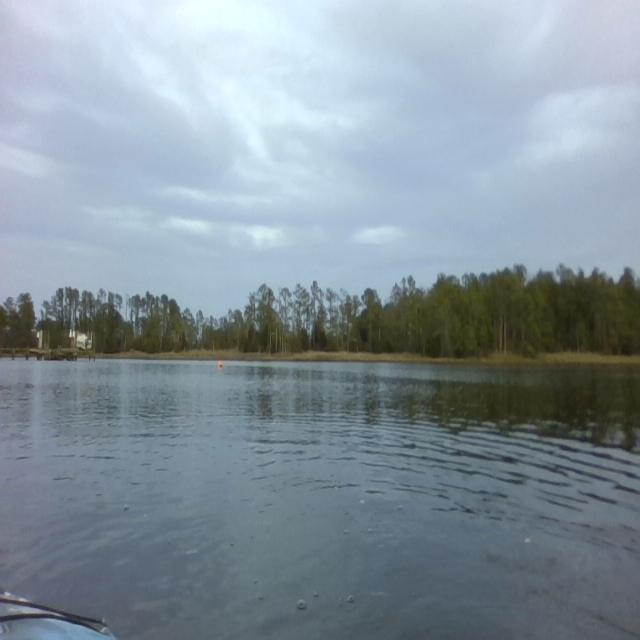Buoy: (217, 360, 224, 370)
